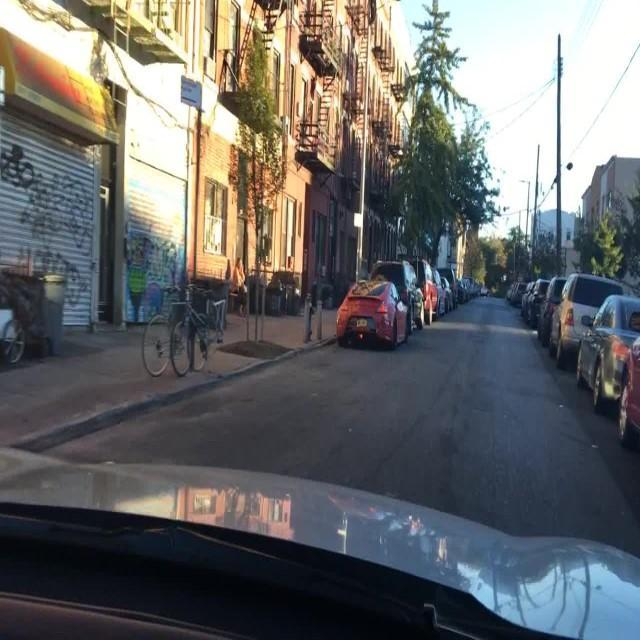normal: (540, 272, 634, 370), (573, 291, 638, 414), (337, 281, 409, 352), (373, 260, 435, 331), (525, 277, 555, 329), (430, 265, 452, 316), (507, 281, 526, 306)
